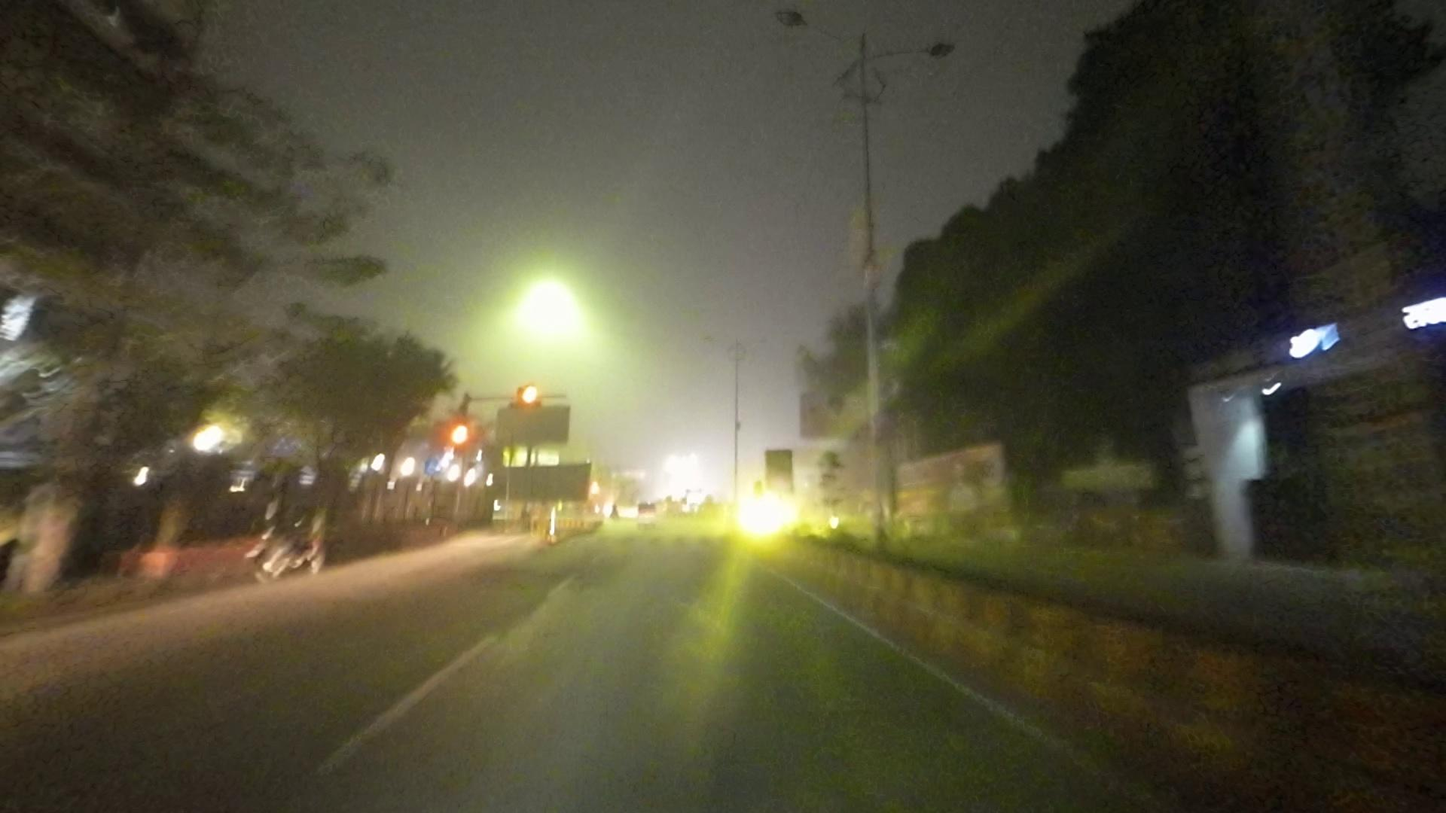streetlight: (765, 0, 854, 50), (880, 39, 960, 67)
